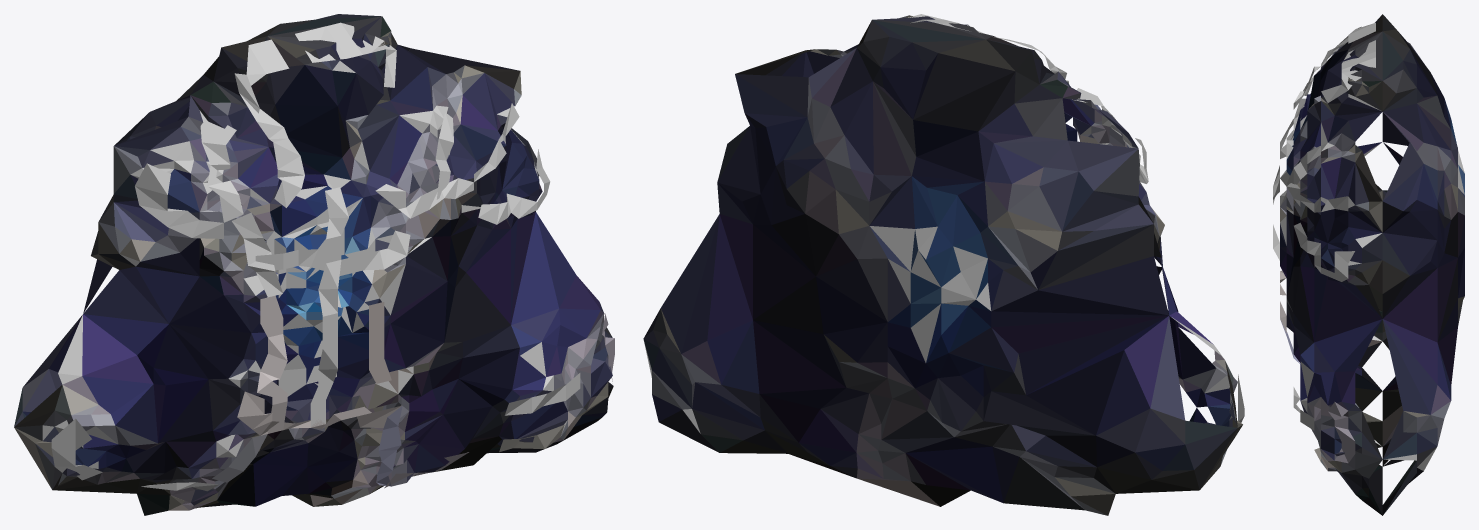
The model's file is B10_5_runeweaver_robe_top.obj.
The picture shows the model from 3 angles, left to right: view 1: azimuth 30°, elevation 25°; view 2: azimuth 150°, elevation 25°; view 3: azimuth 270°, elevation 25°; orthographic projection. The views are drawn at different scales.
Visible parts, largest first — view 1: B10_5_runeweaver_robe_top; view 2: B10_5_runeweaver_robe_top; view 3: B10_5_runeweaver_robe_top.
Boxes of the visible parts, x1,y1,x2,y2 form: B10_5_runeweaver_robe_top: (14,14,614,515); B10_5_runeweaver_robe_top: (643,14,1244,515); B10_5_runeweaver_robe_top: (1273,14,1464,515).
Bounding box in the file's own units: 78 × 60 × 28.
